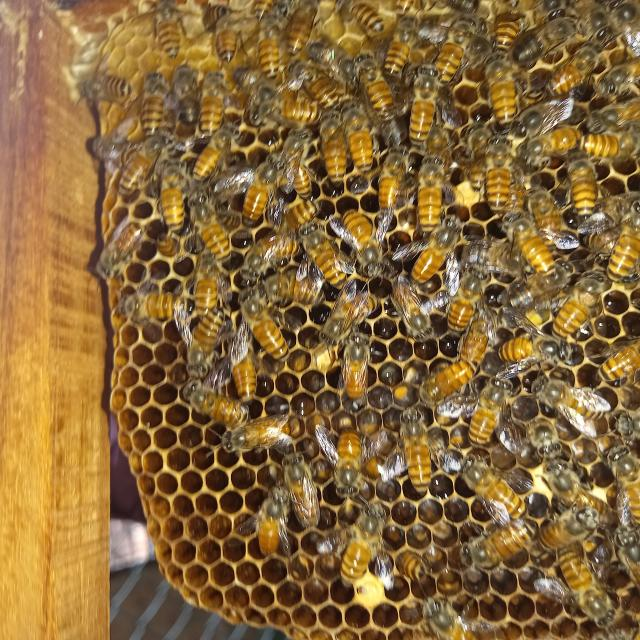honeybee: (550, 548, 627, 629), (453, 449, 531, 524), (538, 460, 618, 531), (526, 374, 614, 438), (237, 69, 324, 132), (446, 378, 520, 448), (332, 502, 396, 581), (229, 154, 289, 232), (468, 138, 528, 212), (433, 261, 493, 333), (237, 289, 296, 362), (347, 49, 404, 123), (551, 268, 609, 340), (392, 406, 440, 492), (233, 227, 304, 285), (398, 64, 448, 146), (396, 216, 458, 281), (182, 193, 238, 262), (517, 12, 587, 66), (339, 208, 392, 278), (264, 130, 316, 200), (324, 281, 384, 341), (426, 17, 482, 81), (504, 210, 558, 276), (502, 98, 574, 147), (472, 518, 540, 569), (92, 218, 146, 282), (560, 148, 606, 222), (410, 149, 449, 236), (281, 450, 325, 527), (492, 331, 576, 371), (177, 307, 226, 375), (524, 187, 576, 251), (321, 426, 369, 495), (181, 379, 247, 429), (216, 408, 291, 452), (504, 263, 573, 310), (389, 276, 439, 340), (286, 58, 348, 109), (372, 138, 411, 219), (250, 484, 294, 555), (412, 361, 486, 402), (222, 332, 267, 399), (542, 46, 599, 98), (315, 113, 357, 183), (139, 0, 186, 62), (417, 595, 481, 640), (115, 290, 187, 329), (341, 106, 382, 172), (190, 121, 238, 177), (608, 446, 640, 527), (608, 198, 640, 279), (267, 268, 331, 308), (184, 248, 223, 311), (155, 156, 187, 232), (536, 509, 600, 547), (522, 122, 580, 163), (121, 133, 158, 197), (258, 198, 321, 235), (576, 129, 640, 165), (380, 10, 414, 77), (482, 59, 518, 122), (457, 308, 495, 367), (167, 67, 204, 127), (283, 0, 320, 57), (331, 0, 386, 38), (90, 114, 136, 159), (256, 6, 284, 77), (596, 337, 640, 382), (342, 329, 369, 399), (199, 69, 228, 133), (615, 523, 640, 592), (597, 60, 640, 98), (489, 11, 526, 54), (587, 99, 640, 129), (138, 72, 164, 133), (84, 72, 134, 102), (590, 18, 628, 57), (214, 18, 245, 64), (203, 0, 236, 28), (248, 0, 276, 19), (443, 0, 481, 11)
